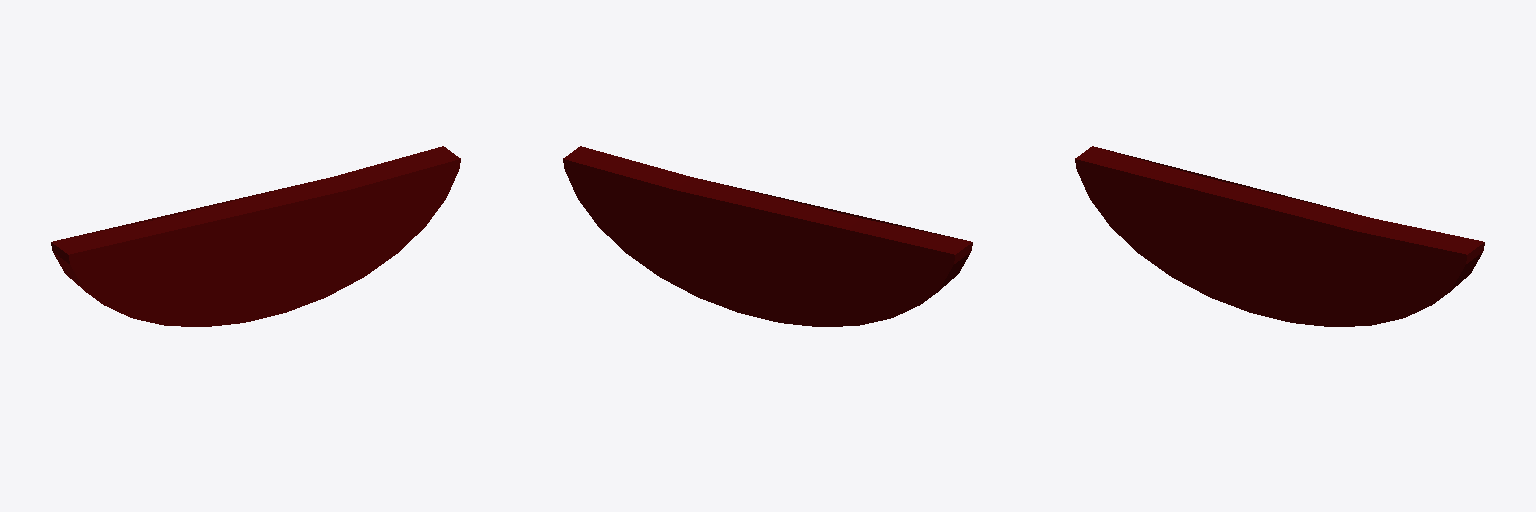
The model's file is mouth.obj.
3 renders of one model, left to right at view 1: azimuth 30°, elevation 25°; view 2: azimuth 150°, elevation 25°; view 3: azimuth 330°, elevation 25°, orthographic.
Visible parts, largest first — view 1: polySurface3 pCylinder13; view 2: polySurface3 pCylinder13; view 3: polySurface3 pCylinder13.
Part boxes in pixels (left/top/right/bottom): polySurface3 pCylinder13: left=51, top=146, right=460, bottom=326; polySurface3 pCylinder13: left=563, top=146, right=972, bottom=326; polySurface3 pCylinder13: left=1075, top=146, right=1484, bottom=326.
Bounding box in the file's own units: 0.5894 × 0.1595 × 0.0457.